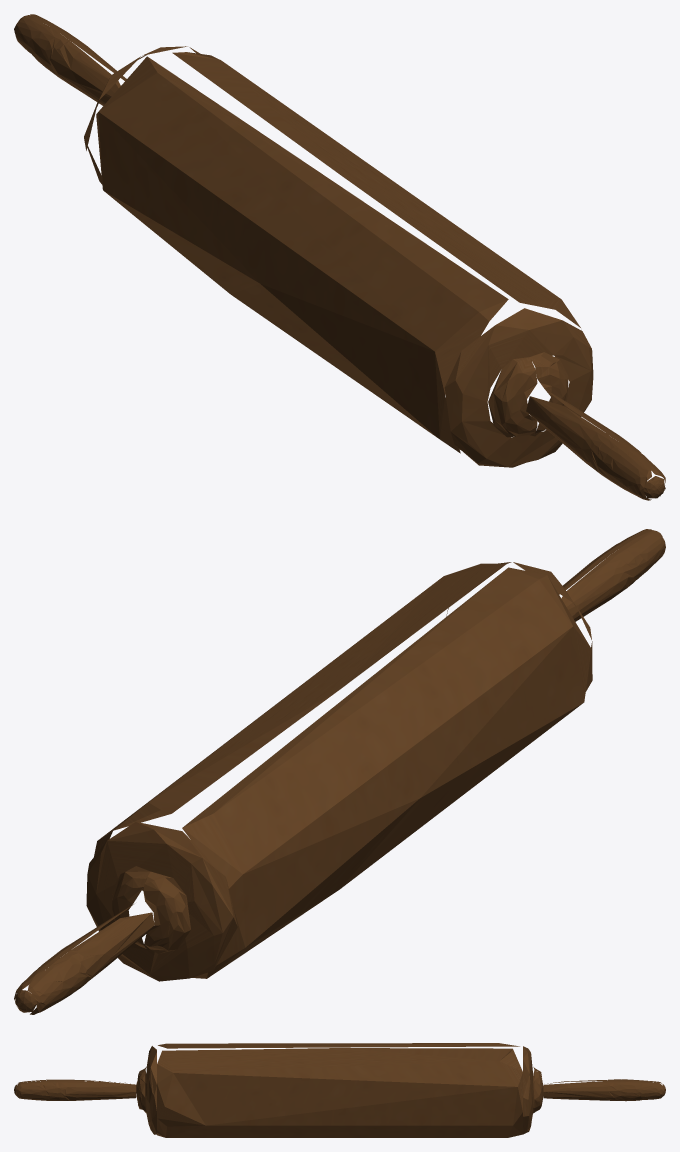
Rendered from kitchenware_rollingPin_a01.glb.
3 renders of one model, top to bottom at view 1: azimuth 30°, elevation 25°; view 2: azimuth 150°, elevation 25°; view 3: azimuth 270°, elevation 25°, orthographic. The views are drawn at different scales.
Parts seen in each view (by area): view 1: geometry_0; view 2: geometry_0; view 3: geometry_0.
Part boxes in pixels (x1,y1,x2,y2): geometry_0: (14,14,665,500); geometry_0: (14,529,665,1014); geometry_0: (14,1043,665,1137).
Bounding box in the file's own units: 0.0606 × 0.0601 × 0.42.
1 material, 1 textured.
